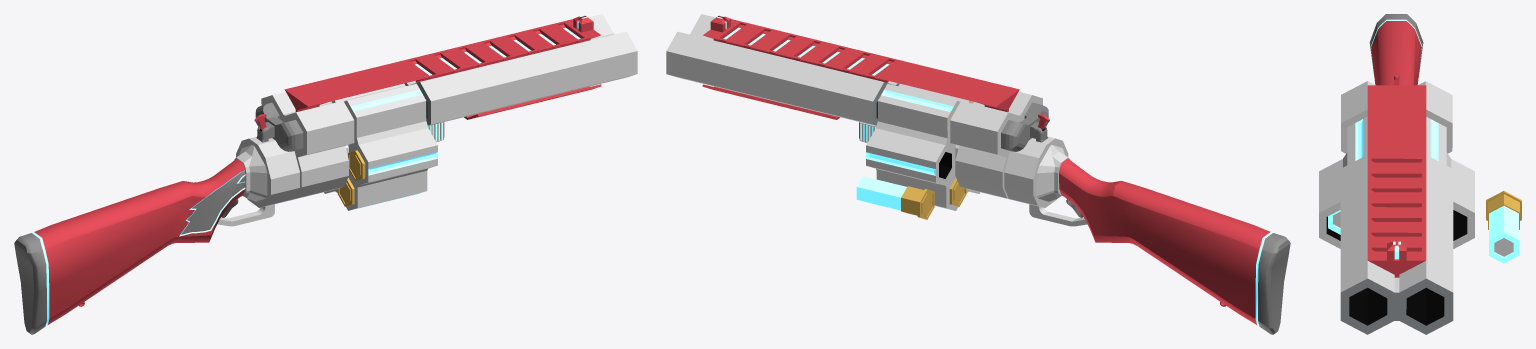
The picture shows the model from 3 angles, left to right: view 1: azimuth 30°, elevation 25°; view 2: azimuth 150°, elevation 25°; view 3: azimuth 270°, elevation 25°; orthographic projection. The views are drawn at different scales.
Visible parts, largest first — view 1: Remington870.001, Cercle.001, Cercle, Cercle.008, Cercle.002, Cercle.007, Cercle.003, Cercle.009; view 2: Remington870.001, Cercle.001, Cercle, Cercle.008, Cercle.002, Cercle.007, Cercle.006, Cercle.003, Cercle.009; view 3: Cercle.001, Cercle.008, Cercle, Remington870.001, Cercle.002, Cercle.006, Cercle.012.
Part boxes in pixels (box(x1,y1,x2,y2)): Remington870.001: box(14, 159, 245, 334); Cercle.001: box(404, 14, 637, 125); Cercle: box(324, 83, 437, 210); Cercle.008: box(284, 15, 600, 111); Cercle.002: box(261, 92, 354, 200); Cercle.007: box(217, 136, 299, 226); Cercle.003: box(254, 102, 303, 151); Cercle.009: box(464, 84, 601, 119); Remington870.001: box(1059, 158, 1290, 334); Cercle.001: box(666, 14, 899, 125); Cercle: box(866, 83, 979, 210); Cercle.008: box(703, 15, 1019, 112); Cercle.002: box(950, 92, 1042, 199); Cercle.007: box(1004, 136, 1087, 226); Cercle.006: box(856, 176, 934, 219); Cercle.003: box(1001, 102, 1049, 151); Cercle.009: box(702, 84, 839, 119); Cercle.001: box(1340, 155, 1453, 334); Cercle.008: box(1367, 85, 1426, 277); Cercle: box(1319, 117, 1474, 248); Remington870.001: box(1369, 14, 1423, 85); Cercle.002: box(1341, 81, 1452, 153); Cercle.006: box(1486, 191, 1521, 263); Cercle.012: box(1328, 210, 1340, 234).
Size of the model in its own units: 3065 by 892 by 739.
